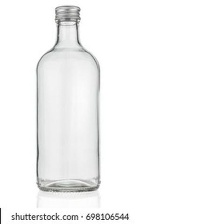bottle: (26, 3, 104, 197)
